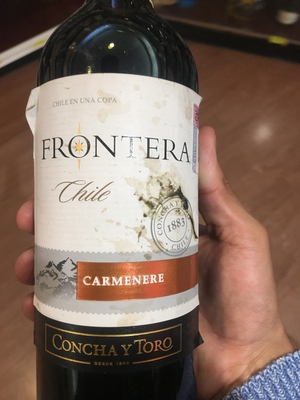frontera carmenere: (31, 8, 213, 400)
